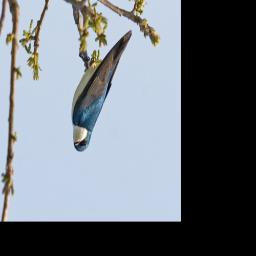Swallow: (68, 28, 135, 157)
